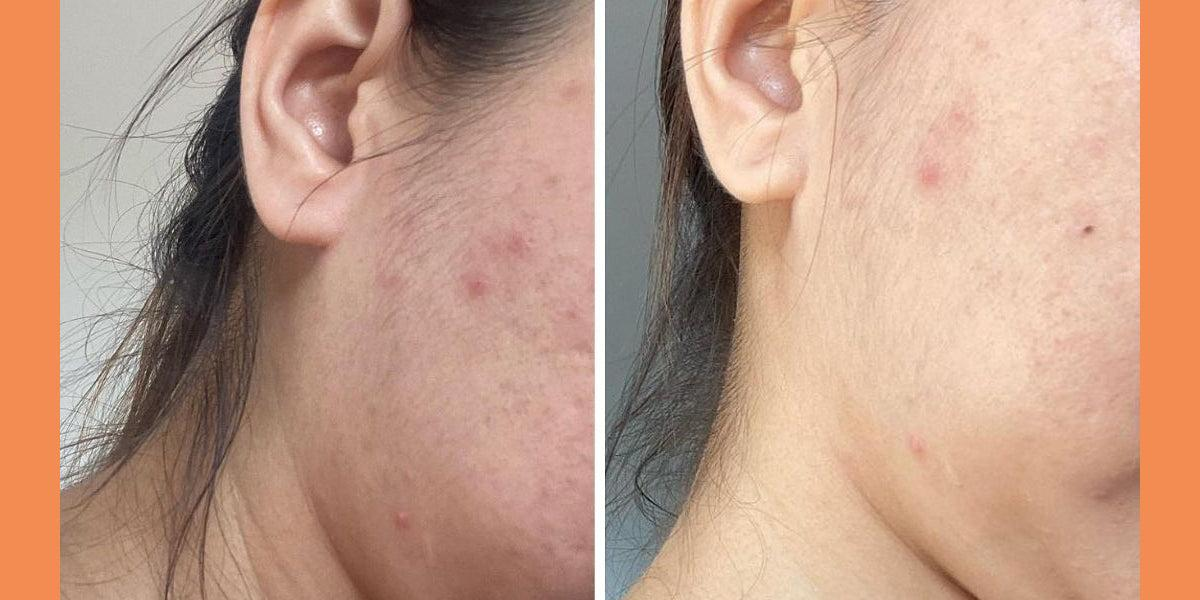Acne: (308, 33, 591, 579), (836, 34, 1107, 502)
